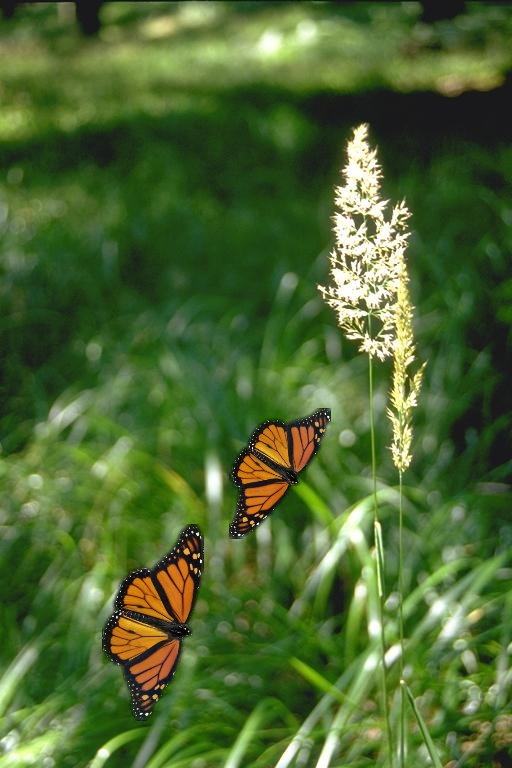danaus_plexippus: (102, 524, 204, 721), (229, 408, 331, 539)
